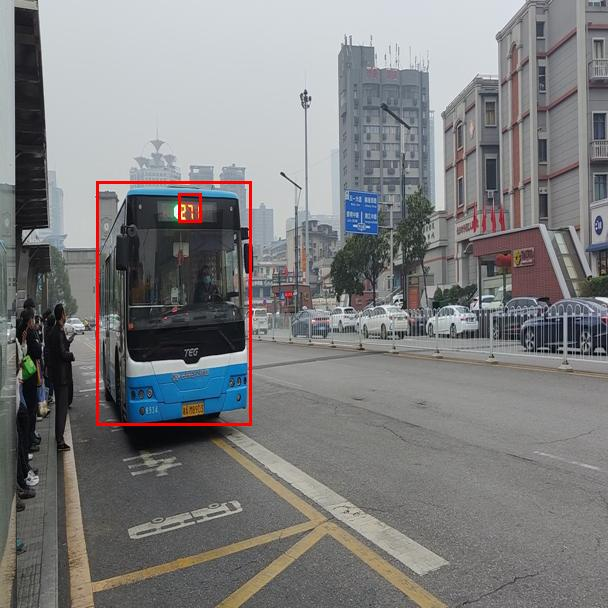bus: (96, 181, 251, 425)
screen: (178, 193, 201, 222)
